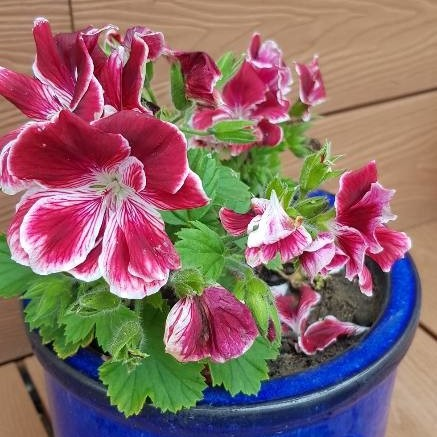obstacle: (13, 19, 433, 423)
